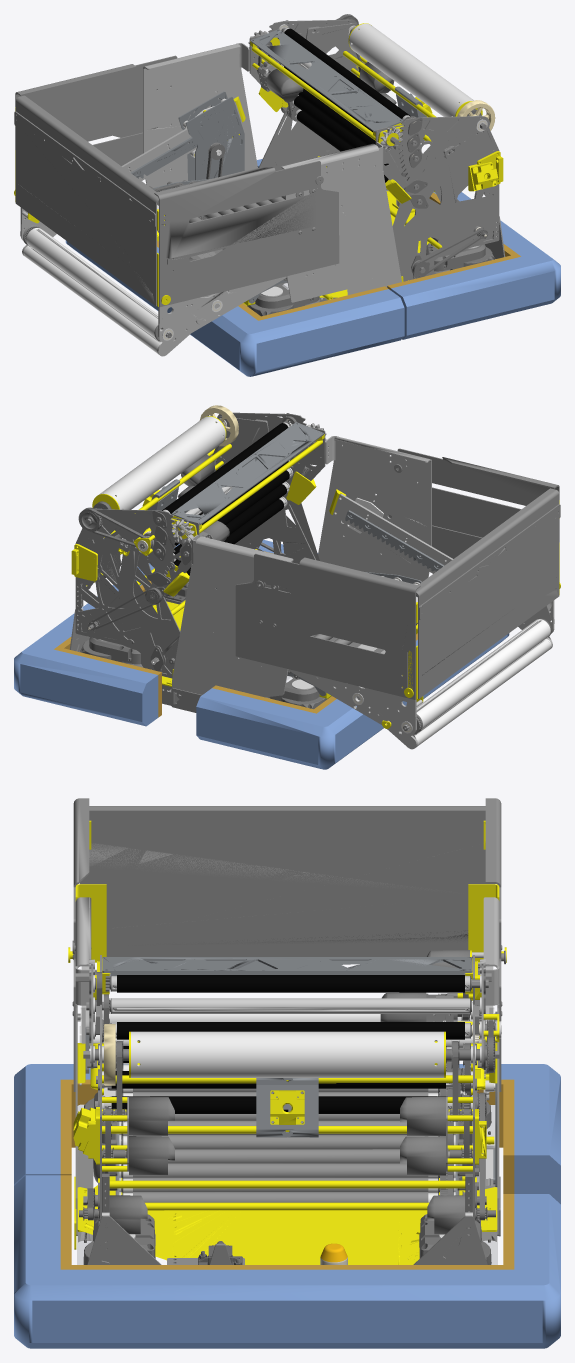
3 renders of one model, top to bottom at view 1: azimuth 30°, elevation 25°; view 2: azimuth 150°, elevation 25°; view 3: azimuth 270°, elevation 25°, orthographic. The views are drawn at different scales.
Parts seen in each view (by area): view 1: 2485-26-P-H0104, 2485-26-P-H0105, Bumper Right, 2485-26-P-H0119, Bumper Left, 2485-P-W0101-Mirrored, 2485-26-P-H0120, 2485-26-P-H0106, 2485-P-W0106, 2485-26-P-W0149v2, 2485-P-W0101, Deadaxle Tube_24.375_in (+26 smaller); view 2: 2485-26-P-H0106, 2485-26-P-H0105, 2485-26-P-H0120, 2485-26-P-H0119, Bumper Right, 2485-P-W0101, Bumper Left, 2485-26-P-H0104, 2485-P-W0101-Mirrored, 2485-P-W0106, 2485-26-P-W0149v2, Deadaxle Tube_24.375_in (+22 smaller); view 3: 2485-26-P-H0105, Bumper Left, 2485-P-W0106, 2485-26-P-D0103, Bumper Right, 2485-P-W0112, 2485-26-P-W0149v2, 2485-P-W0111.002, 2485-26-P-Z0115.003, 2485-P-W0112.001, 2485-26-P-Z0115.002, 2485-26-P-Z0115.007 (+41 smaller).
Boxes of the visible parts, box(x1,y1,x2,y2) form: 2485-26-P-H0104: box(154, 161, 339, 307); 2485-26-P-H0105: box(15, 95, 158, 306); Bumper Right: box(65, 240, 404, 376); 2485-26-P-H0119: box(281, 142, 401, 302); Bumper Left: box(256, 159, 560, 339); 2485-P-W0101-Mirrored: box(375, 115, 499, 281); 2485-26-P-H0120: box(143, 43, 257, 188); 2485-26-P-H0106: box(15, 55, 177, 165); 2485-P-W0106: box(349, 23, 473, 116); 2485-26-P-W0149v2: box(251, 29, 403, 132); 2485-P-W0101: box(249, 23, 358, 171); Deadaxle Tube_24.375_in: box(26, 228, 158, 338); 2485-26-P-H0106: box(235, 553, 420, 699); 2485-26-P-H0105: box(416, 488, 559, 698); 2485-26-P-H0120: box(172, 535, 293, 704); 2485-26-P-H0119: box(318, 436, 431, 581); Bumper Right: box(196, 633, 509, 769); 2485-P-W0101: box(75, 508, 199, 678); Bumper Left: box(14, 539, 318, 726); 2485-26-P-H0104: box(388, 448, 559, 558); 2485-P-W0101-Mirrored: box(215, 416, 325, 563); 2485-P-W0106: box(99, 416, 225, 509); 2485-26-P-W0149v2: box(171, 422, 323, 525); Deadaxle Tube_24.375_in: box(416, 619, 550, 728); 2485-26-P-H0105: box(79, 806, 494, 956); Bumper Left: box(14, 1175, 560, 1348); 2485-P-W0106: box(131, 1031, 443, 1077); 2485-26-P-D0103: box(77, 1176, 497, 1264); Bumper Right: box(14, 1064, 560, 1204); 2485-P-W0112: box(117, 975, 464, 992); 2485-26-P-W0149v2: box(102, 957, 472, 972); 2485-P-W0111.002: box(111, 998, 469, 1013); 2485-26-P-Z0115.003: box(133, 1163, 428, 1177); 2485-P-W0112.001: box(117, 1022, 464, 1039); 2485-26-P-Z0115.002: box(133, 1135, 427, 1149); 2485-26-P-Z0115.007: box(168, 1149, 399, 1163).
Bounding box in the file's own units: 109 × 54.67 × 89.38.
